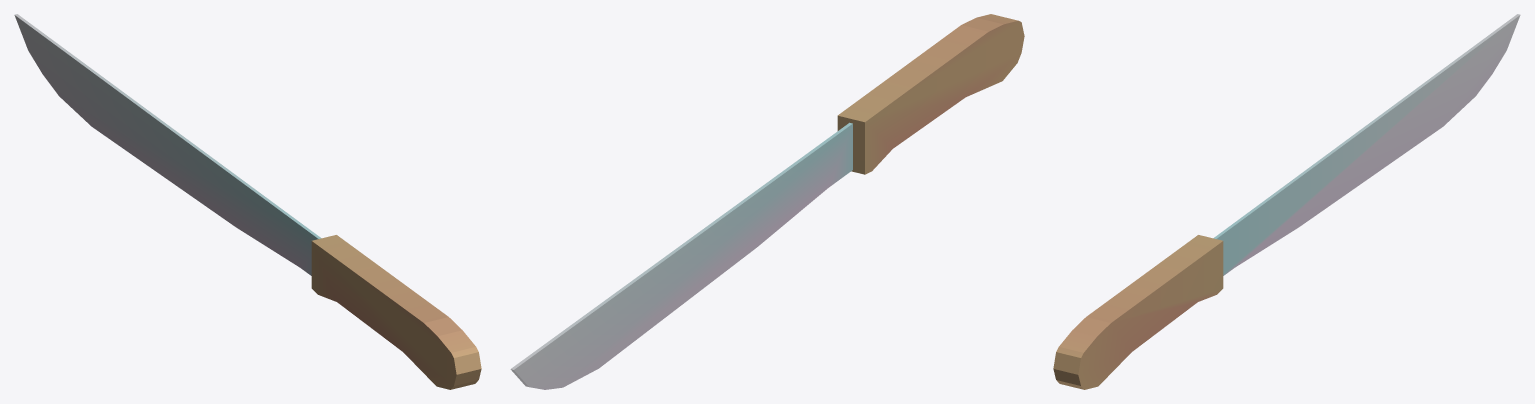
3 views of the same model, side by side, from view 1: azimuth 30°, elevation 25°; view 2: azimuth 150°, elevation 25°; view 3: azimuth 330°, elevation 25° (orthographic). The views are drawn at different scales.
Visible parts, largest first — view 1: steel, grip; view 2: steel, grip; view 3: steel, grip.
Part boxes in pixels (x1=…): steel: x1=14, y1=14, x2=321, y2=275; grip: x1=311, y1=235, x2=481, y2=389; steel: x1=510, y1=122, x2=852, y2=389; grip: x1=837, y1=14, x2=1024, y2=174; steel: x1=1213, y1=14, x2=1520, y2=275; grip: x1=1053, y1=235, x2=1223, y2=389.
Size of the model in its own units: 0.0159 by 0.035 by 0.5.
